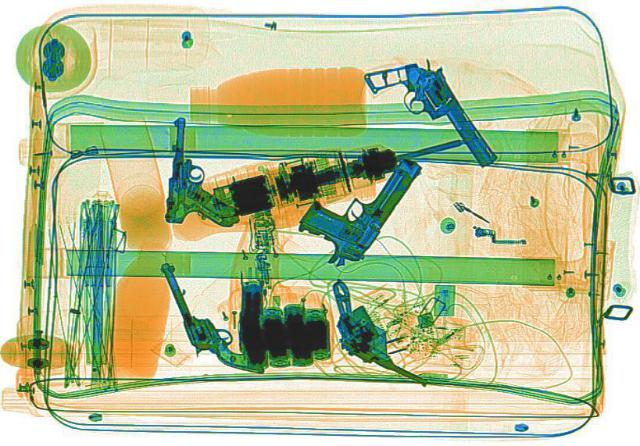Gun: (284, 276, 476, 387), (276, 142, 426, 268), (357, 53, 501, 180), (155, 252, 265, 381), (161, 115, 249, 225)
